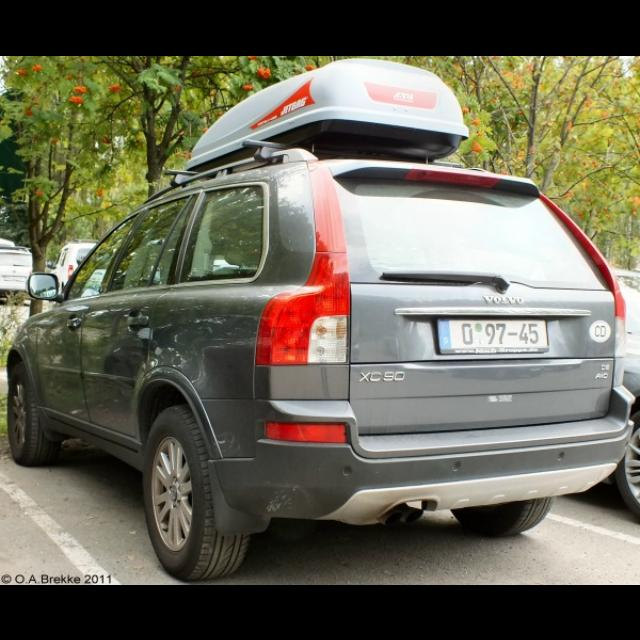d_license_plate: (438, 319, 546, 345)
